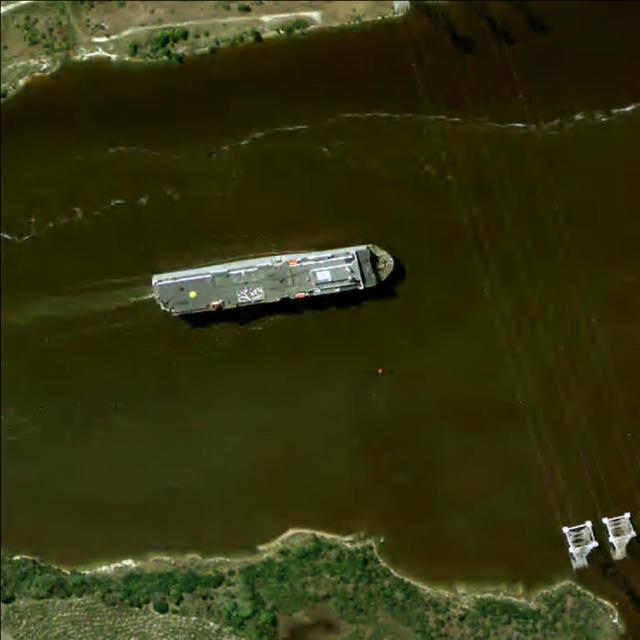RoRo: (149, 234, 401, 319)
